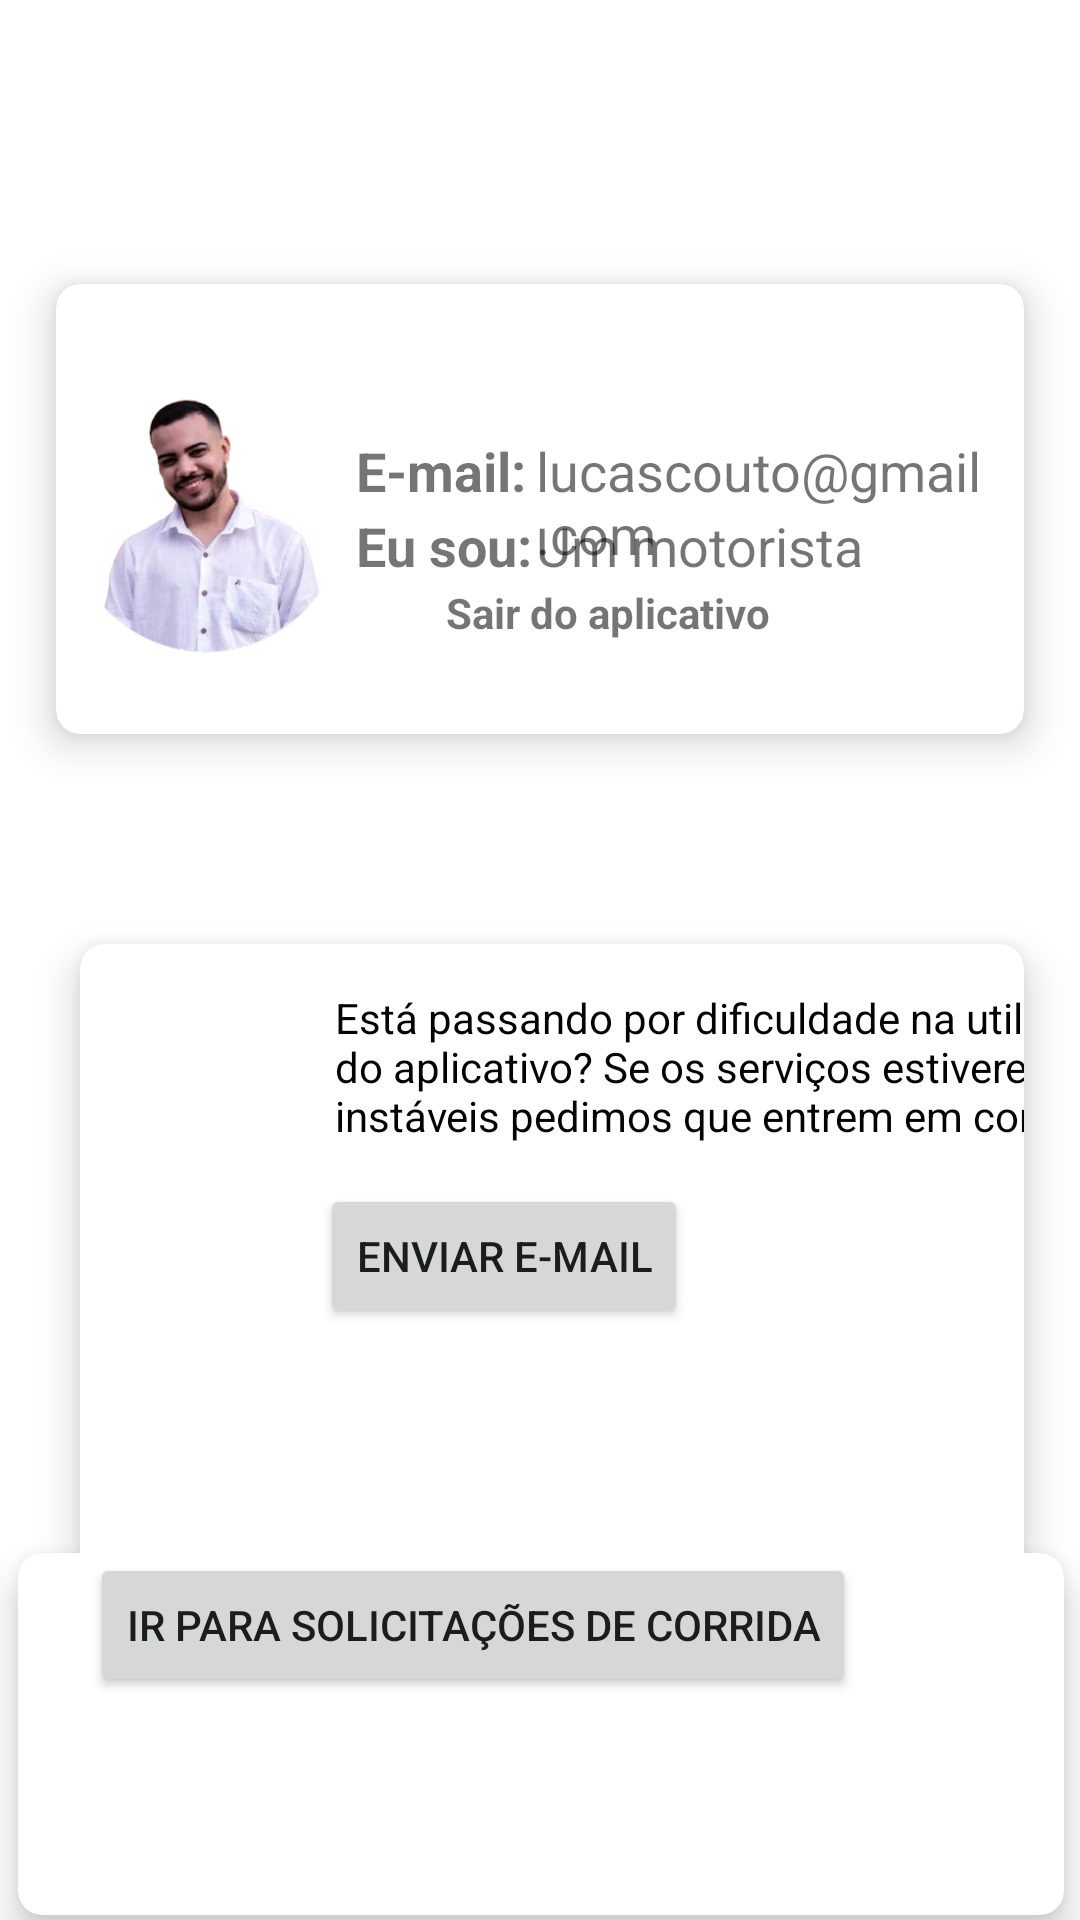

Icon bounding boxes for this 1080w x 1920h phone screenshot, format box=[x1, y1, x2, y2]:
perfil: box=[56, 301, 318, 652]
